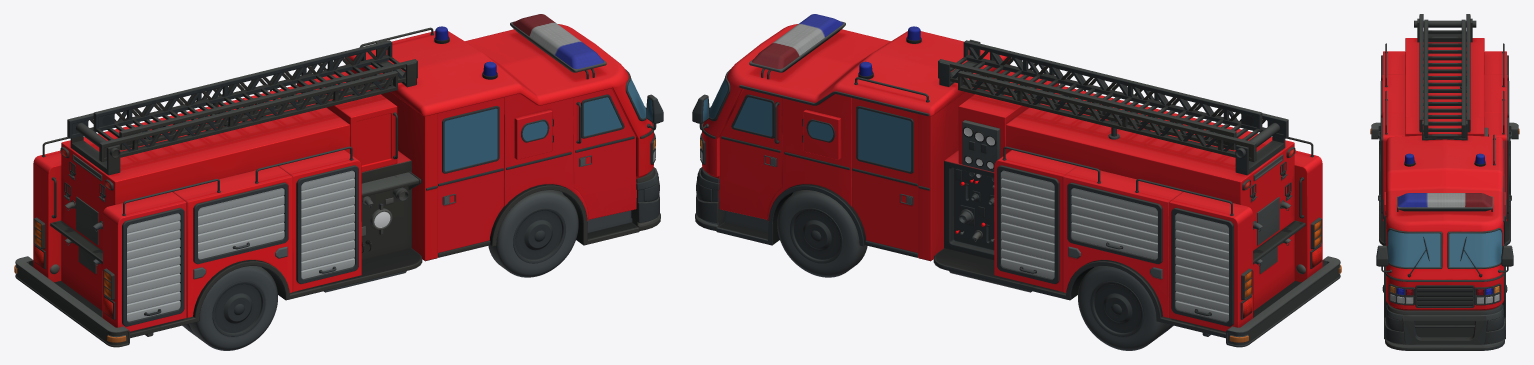
Rendered from fire truck.glb.
The picture shows the model from 3 angles, left to right: view 1: azimuth 30°, elevation 25°; view 2: azimuth 150°, elevation 25°; view 3: azimuth 270°, elevation 25°; orthographic projection. The views are drawn at different scales.
Visible parts, largest first — view 1: node_id36; view 2: node_id36; view 3: node_id36.
Part boxes in pixels (box(x1,y1,x2,y2)): node_id36: box(14, 14, 663, 350); node_id36: box(692, 14, 1341, 350); node_id36: box(1370, 14, 1519, 350).
Bounding box in the file's own units: 1.15 × 0.4239 × 0.3558.
1 material, 1 textured.
